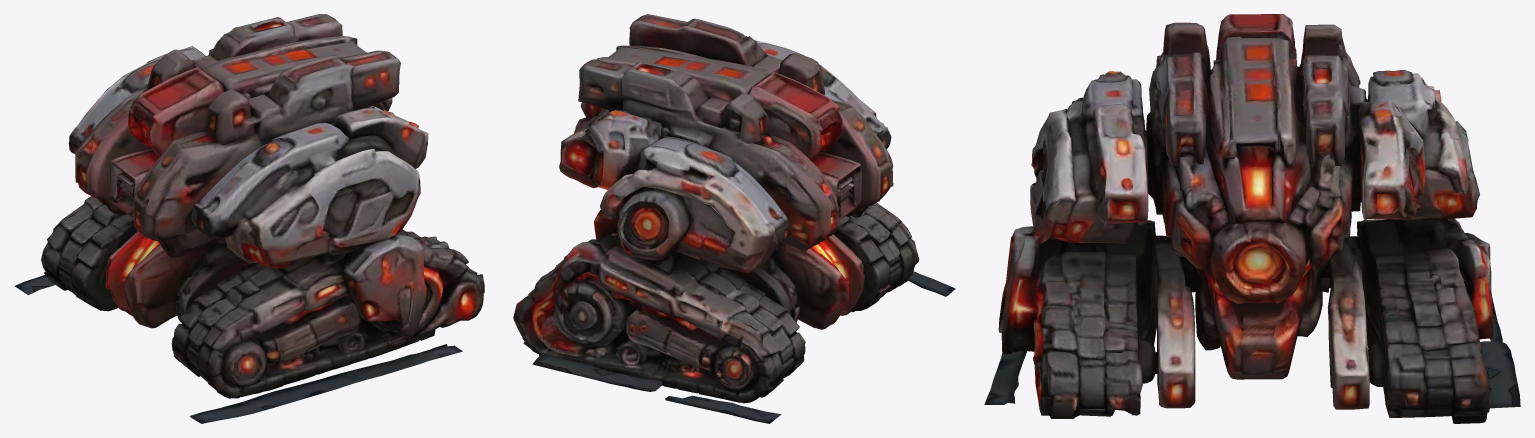
The model's file is cyber-brute.glb.
3 views of the same model, side by side, from view 1: azimuth 30°, elevation 25°; view 2: azimuth 150°, elevation 25°; view 3: azimuth 270°, elevation 25° (orthographic). The views are drawn at different scales.
Parts seen in each view (by area): view 1: tripo_node_15c4afe1-4064-48dc-8f29-b41493266fee; view 2: tripo_node_15c4afe1-4064-48dc-8f29-b41493266fee; view 3: tripo_node_15c4afe1-4064-48dc-8f29-b41493266fee.
Boxes of the visible parts, left/top/right/bottom form: tripo_node_15c4afe1-4064-48dc-8f29-b41493266fee: left=14, top=14, right=484, bottom=423; tripo_node_15c4afe1-4064-48dc-8f29-b41493266fee: left=513, top=14, right=955, bottom=423; tripo_node_15c4afe1-4064-48dc-8f29-b41493266fee: left=984, top=14, right=1520, bottom=423.
Size of the model in its own units: 0.7905 by 0.6828 by 1.
1 material, 1 textured.
